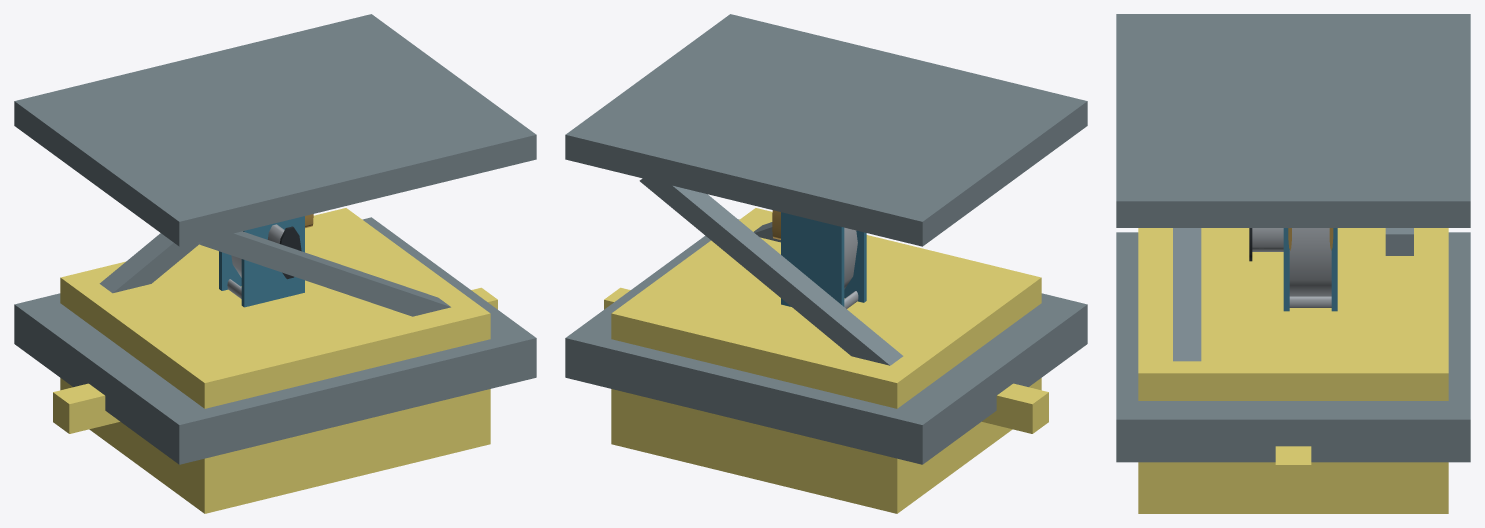
3 views of the same model, side by side, from view 1: azimuth 30°, elevation 25°; view 2: azimuth 150°, elevation 25°; view 3: azimuth 270°, elevation 25° (orthographic). The views are drawn at different scales.
Visible parts, largest first — view 1: g0004, visualCarriage, g0001, g0003, g2, object 17, g0, g1; view 2: g0004, visualCarriage, g0001, g0, g1, object 17, g2, g0002; view 3: g0004, visualCarriage, g0001, g0003, g0002, object 17, g0, g7, g2, g1, g5.
Boxes of the visible parts, left/top/right/bottom form: g0004: left=14, top=14, right=536, bottom=246; visualCarriage: left=60, top=208, right=490, bottom=513; g0001: left=14, top=217, right=536, bottom=464; g0003: left=197, top=231, right=450, bottom=316; g2: left=241, top=216, right=304, bottom=307; object 17: left=53, top=287, right=497, bottom=433; g0: left=99, top=233, right=199, bottom=293; g1: left=219, top=251, right=241, bottom=290; g0004: left=565, top=14, right=1087, bottom=246; visualCarriage: left=611, top=208, right=1041, bottom=513; g0001: left=565, top=219, right=1087, bottom=464; g0: left=639, top=178, right=903, bottom=365; g1: left=781, top=212, right=844, bottom=306; object 17: left=604, top=287, right=1048, bottom=433; g2: left=844, top=230, right=866, bottom=302; g0002: left=844, top=227, right=857, bottom=289; g0004: left=1116, top=14, right=1470, bottom=227; visualCarriage: left=1138, top=228, right=1448, bottom=513; g0001: left=1116, top=232, right=1470, bottom=462; g0003: left=1173, top=228, right=1201, bottom=361; g0002: left=1289, top=228, right=1331, bottom=296; object 17: left=1275, top=446, right=1311, bottom=497; g0: left=1385, top=228, right=1413, bottom=255; g7: left=1252, top=228, right=1283, bottom=251; g2: left=1283, top=228, right=1289, bottom=311; g1: left=1331, top=228, right=1337, bottom=311; g5: left=1289, top=296, right=1331, bottom=307.
Bounding box in the file's own units: 1.2 × 0.825 × 0.8.
